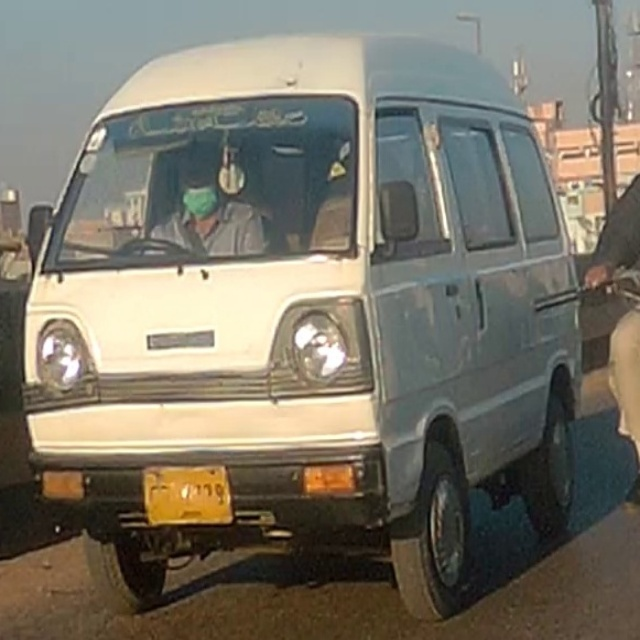Van: (21, 31, 583, 623)
